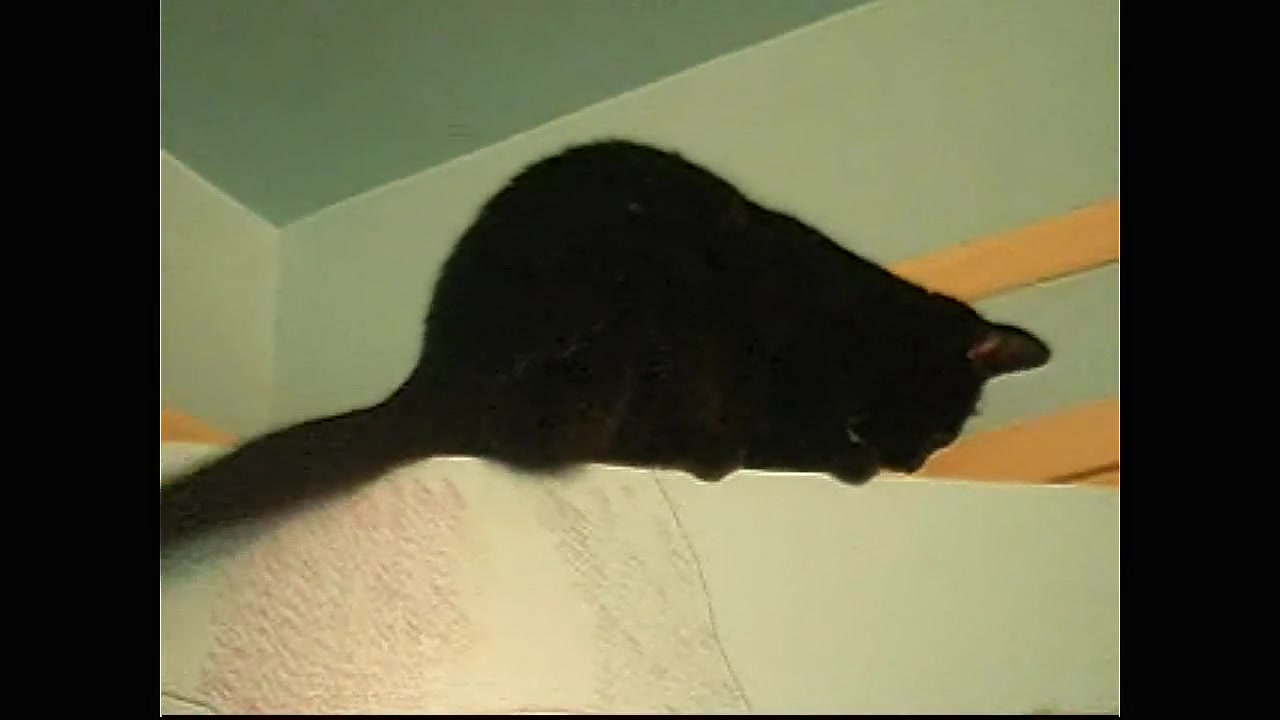cat: (164, 135, 1054, 558)
